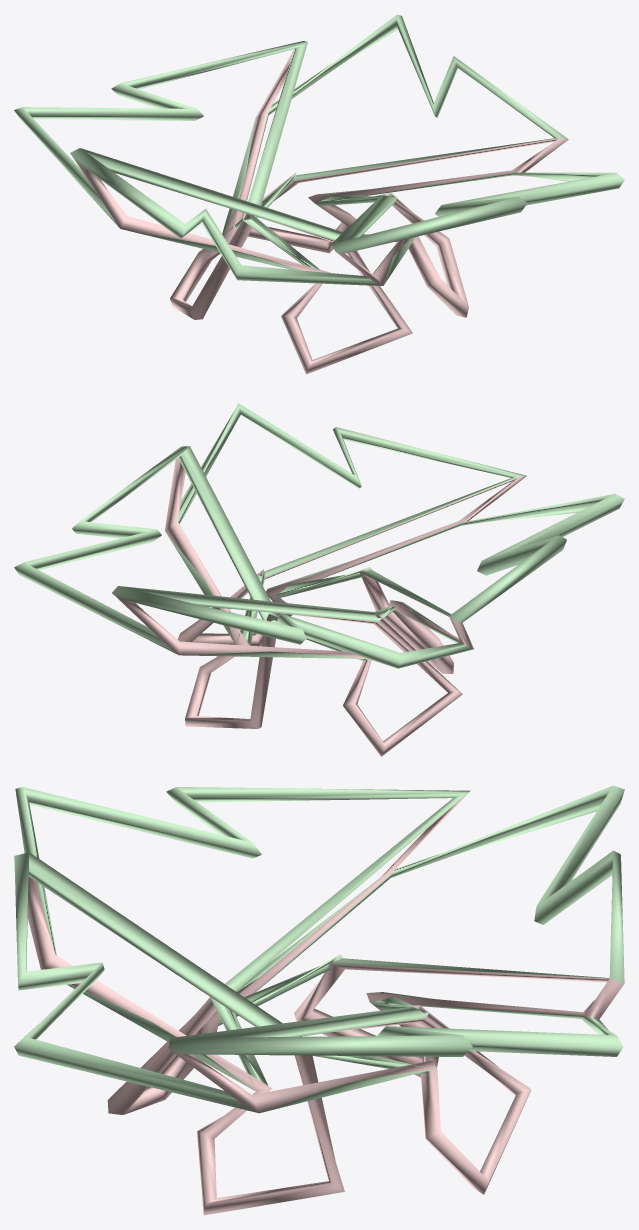
Rendered from MapB.glb.
3 renders of one model, top to bottom at view 1: azimuth 30°, elevation 25°; view 2: azimuth 150°, elevation 25°; view 3: azimuth 270°, elevation 25°, orthographic. The views are drawn at different scales.
Visible parts, largest first — view 1: RegularMap_B; view 2: RegularMap_B; view 3: RegularMap_B.
Part boxes in pixels (<box>): RegularMap_B: <box>14,14,624,374</box>; RegularMap_B: <box>14,403,624,756</box>; RegularMap_B: <box>14,785,624,1215</box>.
Size of the model in its own units: 2.1 by 0.889 by 2.1.
